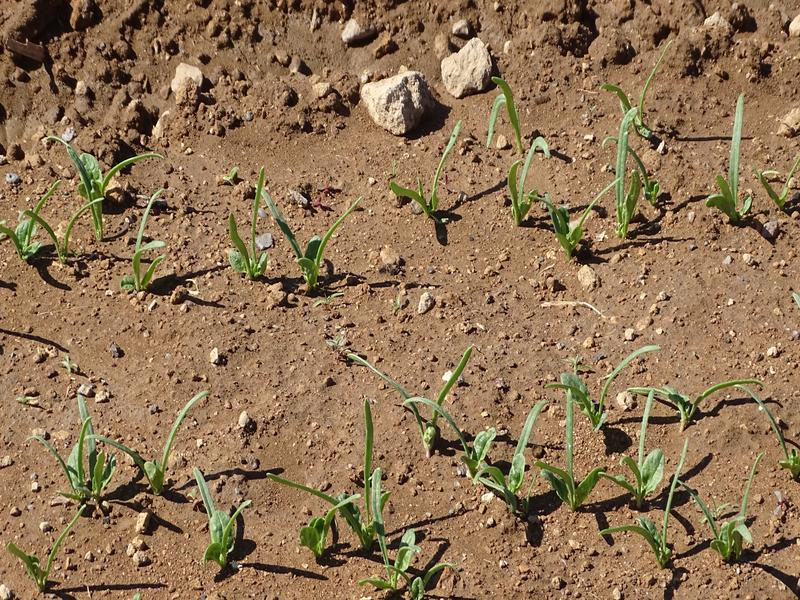Espinaca: (325, 343, 767, 591), (15, 128, 357, 295), (407, 76, 681, 246), (48, 397, 253, 571), (709, 94, 773, 231)
